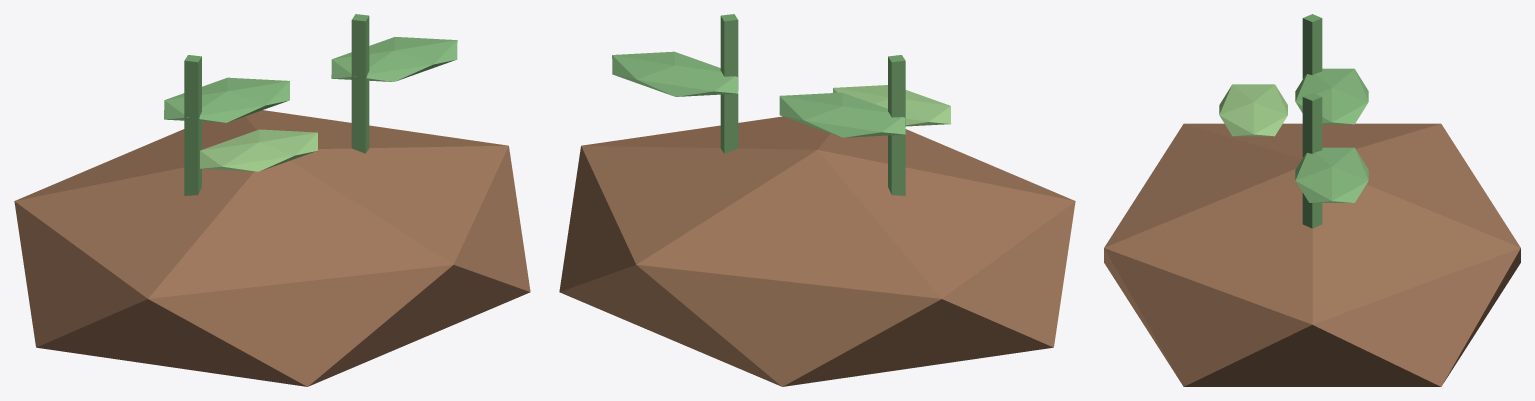
The model's file is potato.glb.
The picture shows the model from 3 angles, left to right: view 1: azimuth 30°, elevation 25°; view 2: azimuth 150°, elevation 25°; view 3: azimuth 270°, elevation 25°; orthographic projection. The views are drawn at different scales.
Visible parts, largest first — view 1: hill, leaf_3, vine_leaf_1, vine_leaf_0, vine_1, vine_0; view 2: hill, vine_leaf_0, vine_leaf_1, vine_1, vine_0, leaf_3; view 3: hill, vine_leaf_1, leaf_3, vine_leaf_0, vine_1, vine_0.
Boxes of the visible parts, x1,y1,x2,y2 form: hill: [14, 110, 530, 386]; leaf_3: [200, 129, 317, 171]; vine_leaf_1: [331, 37, 457, 81]; vine_leaf_0: [164, 77, 289, 122]; vine_1: [351, 14, 369, 153]; vine_0: [184, 55, 201, 195]; hill: [559, 116, 1075, 386]; vine_leaf_0: [779, 92, 905, 137]; vine_leaf_1: [612, 51, 738, 96]; vine_1: [720, 14, 738, 153]; vine_0: [888, 55, 905, 195]; leaf_3: [833, 85, 951, 126]; hill: [1104, 123, 1520, 386]; vine_leaf_1: [1295, 147, 1368, 202]; leaf_3: [1219, 84, 1287, 136]; vine_leaf_0: [1295, 68, 1368, 124]; vine_1: [1302, 93, 1322, 228]; vine_0: [1302, 14, 1322, 78].
Size of the model in its own units: 1.07 by 0.66 by 0.8506.
